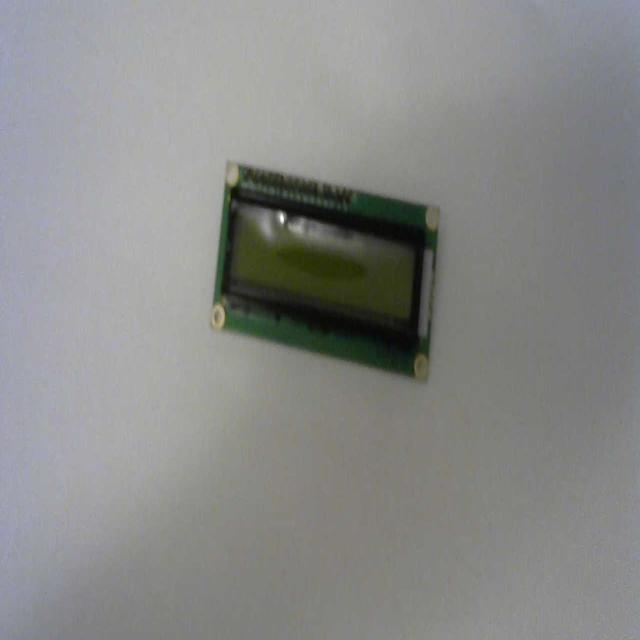lcd: (209, 157, 441, 383)
